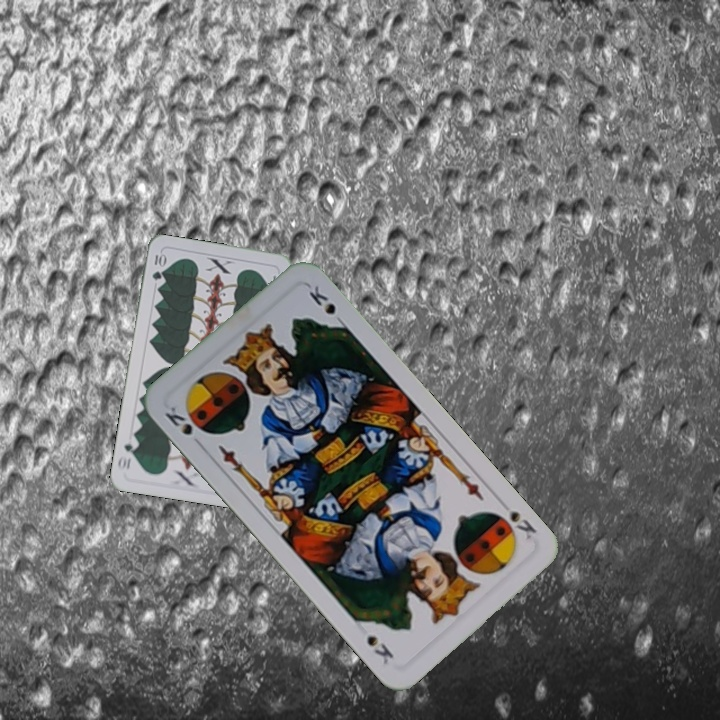G10: (148, 249, 167, 283)
SK: (488, 496, 539, 543), (160, 402, 196, 438)
